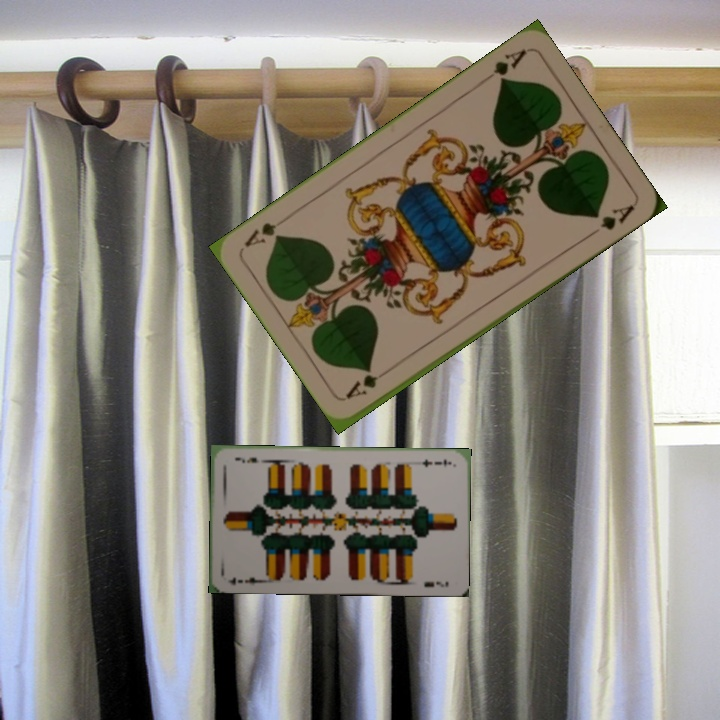E7: (224, 573, 264, 587), (418, 455, 454, 470)
GA: (341, 363, 395, 402), (489, 45, 529, 86)
